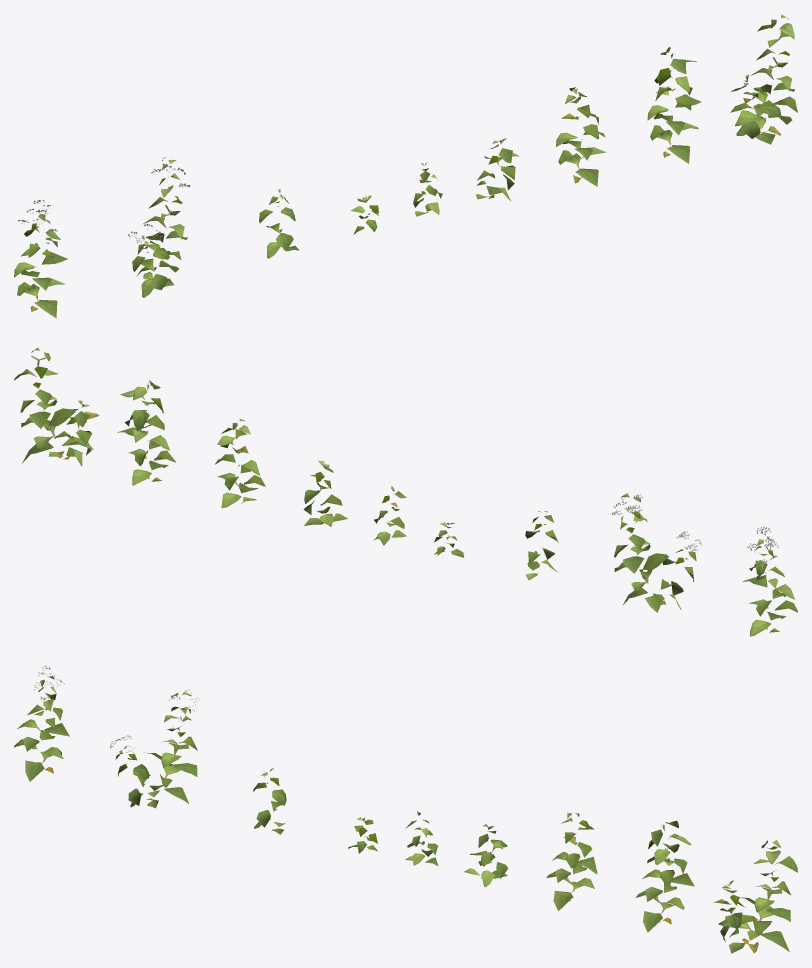
The model's file is shrub_stream.glb.
3 renders of one model, top to bottom at view 1: azimuth 30°, elevation 25°; view 2: azimuth 150°, elevation 25°; view 3: azimuth 330°, elevation 25°, orthographic. The views are drawn at different scales.
Parts seen in each view (by area): view 1: shrub_01_a; view 2: shrub_01_a; view 3: shrub_01_a.
Boxes of the visible parts, x1,y1,x2,y2 form: shrub_01_a: (14, 14, 797, 318); shrub_01_a: (14, 347, 797, 636); shrub_01_a: (14, 665, 797, 953).
Bounding box in the file's own units: 2.59 × 0.3697 × 0.2222.
Materials: 1 (1 with a texture image).
